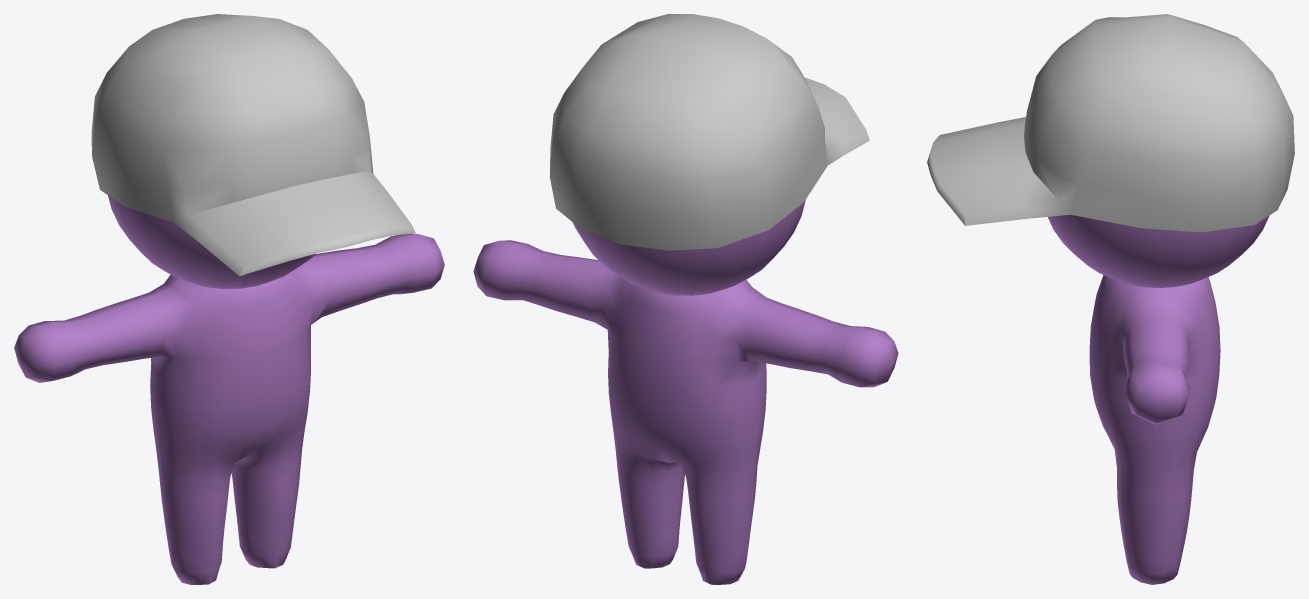
Rendered from Khach.fbx.
3 renders of one model, left to right at view 1: azimuth 30°, elevation 25°; view 2: azimuth 150°, elevation 25°; view 3: azimuth 270°, elevation 25°, orthographic. The views are drawn at different scales.
Visible parts, largest first — view 1: Khachhang; view 2: Khachhang; view 3: Khachhang.
Part boxes in pixels (left/top/right/bottom): Khachhang: left=14, top=14, right=444, bottom=584; Khachhang: left=473, top=14, right=898, bottom=584; Khachhang: left=927, top=14, right=1294, bottom=584.
Size of the model in its own units: 225 by 278 by 175.
